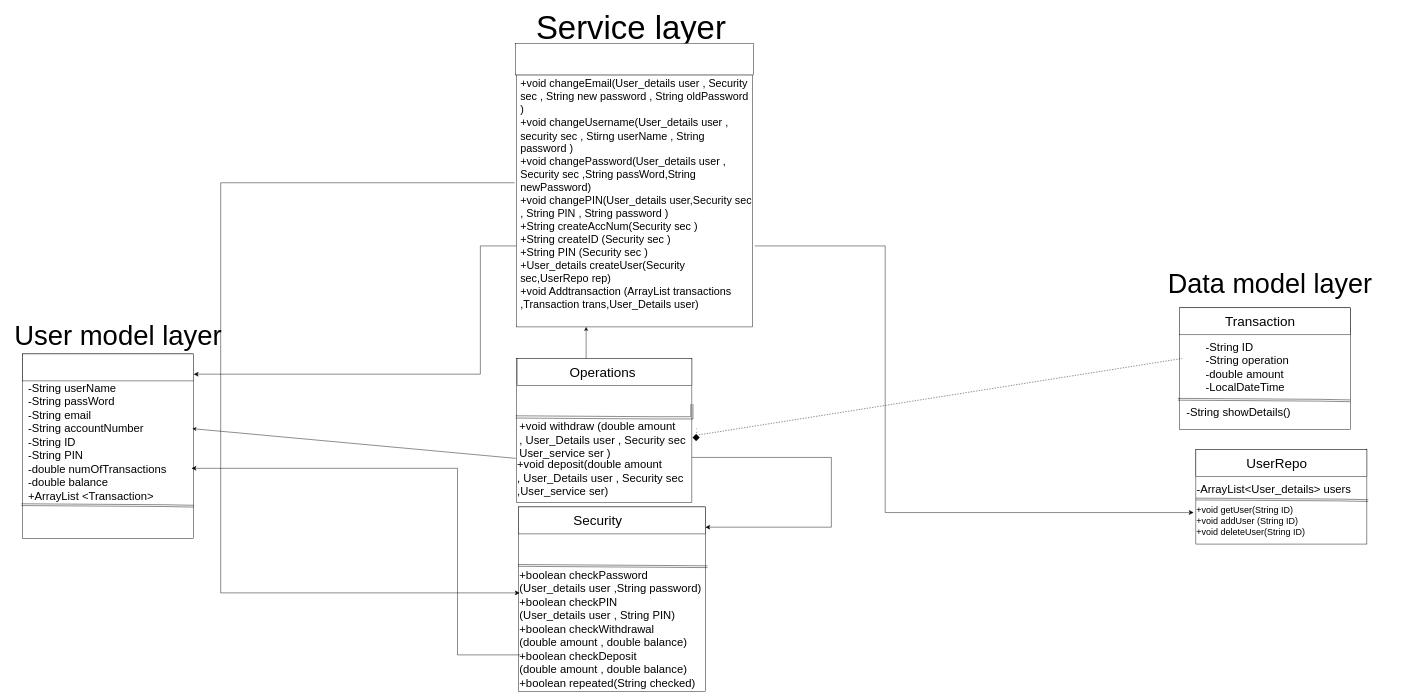
The diagram is 1410 pixels wide and 699 high, and some of its shapes have lost their labels. The shapes that lost their labels are listed below. From the top down, each one's centre as x and y in pixels, then its label:
(x=634, y=59): User_service
(x=108, y=367): User_details
